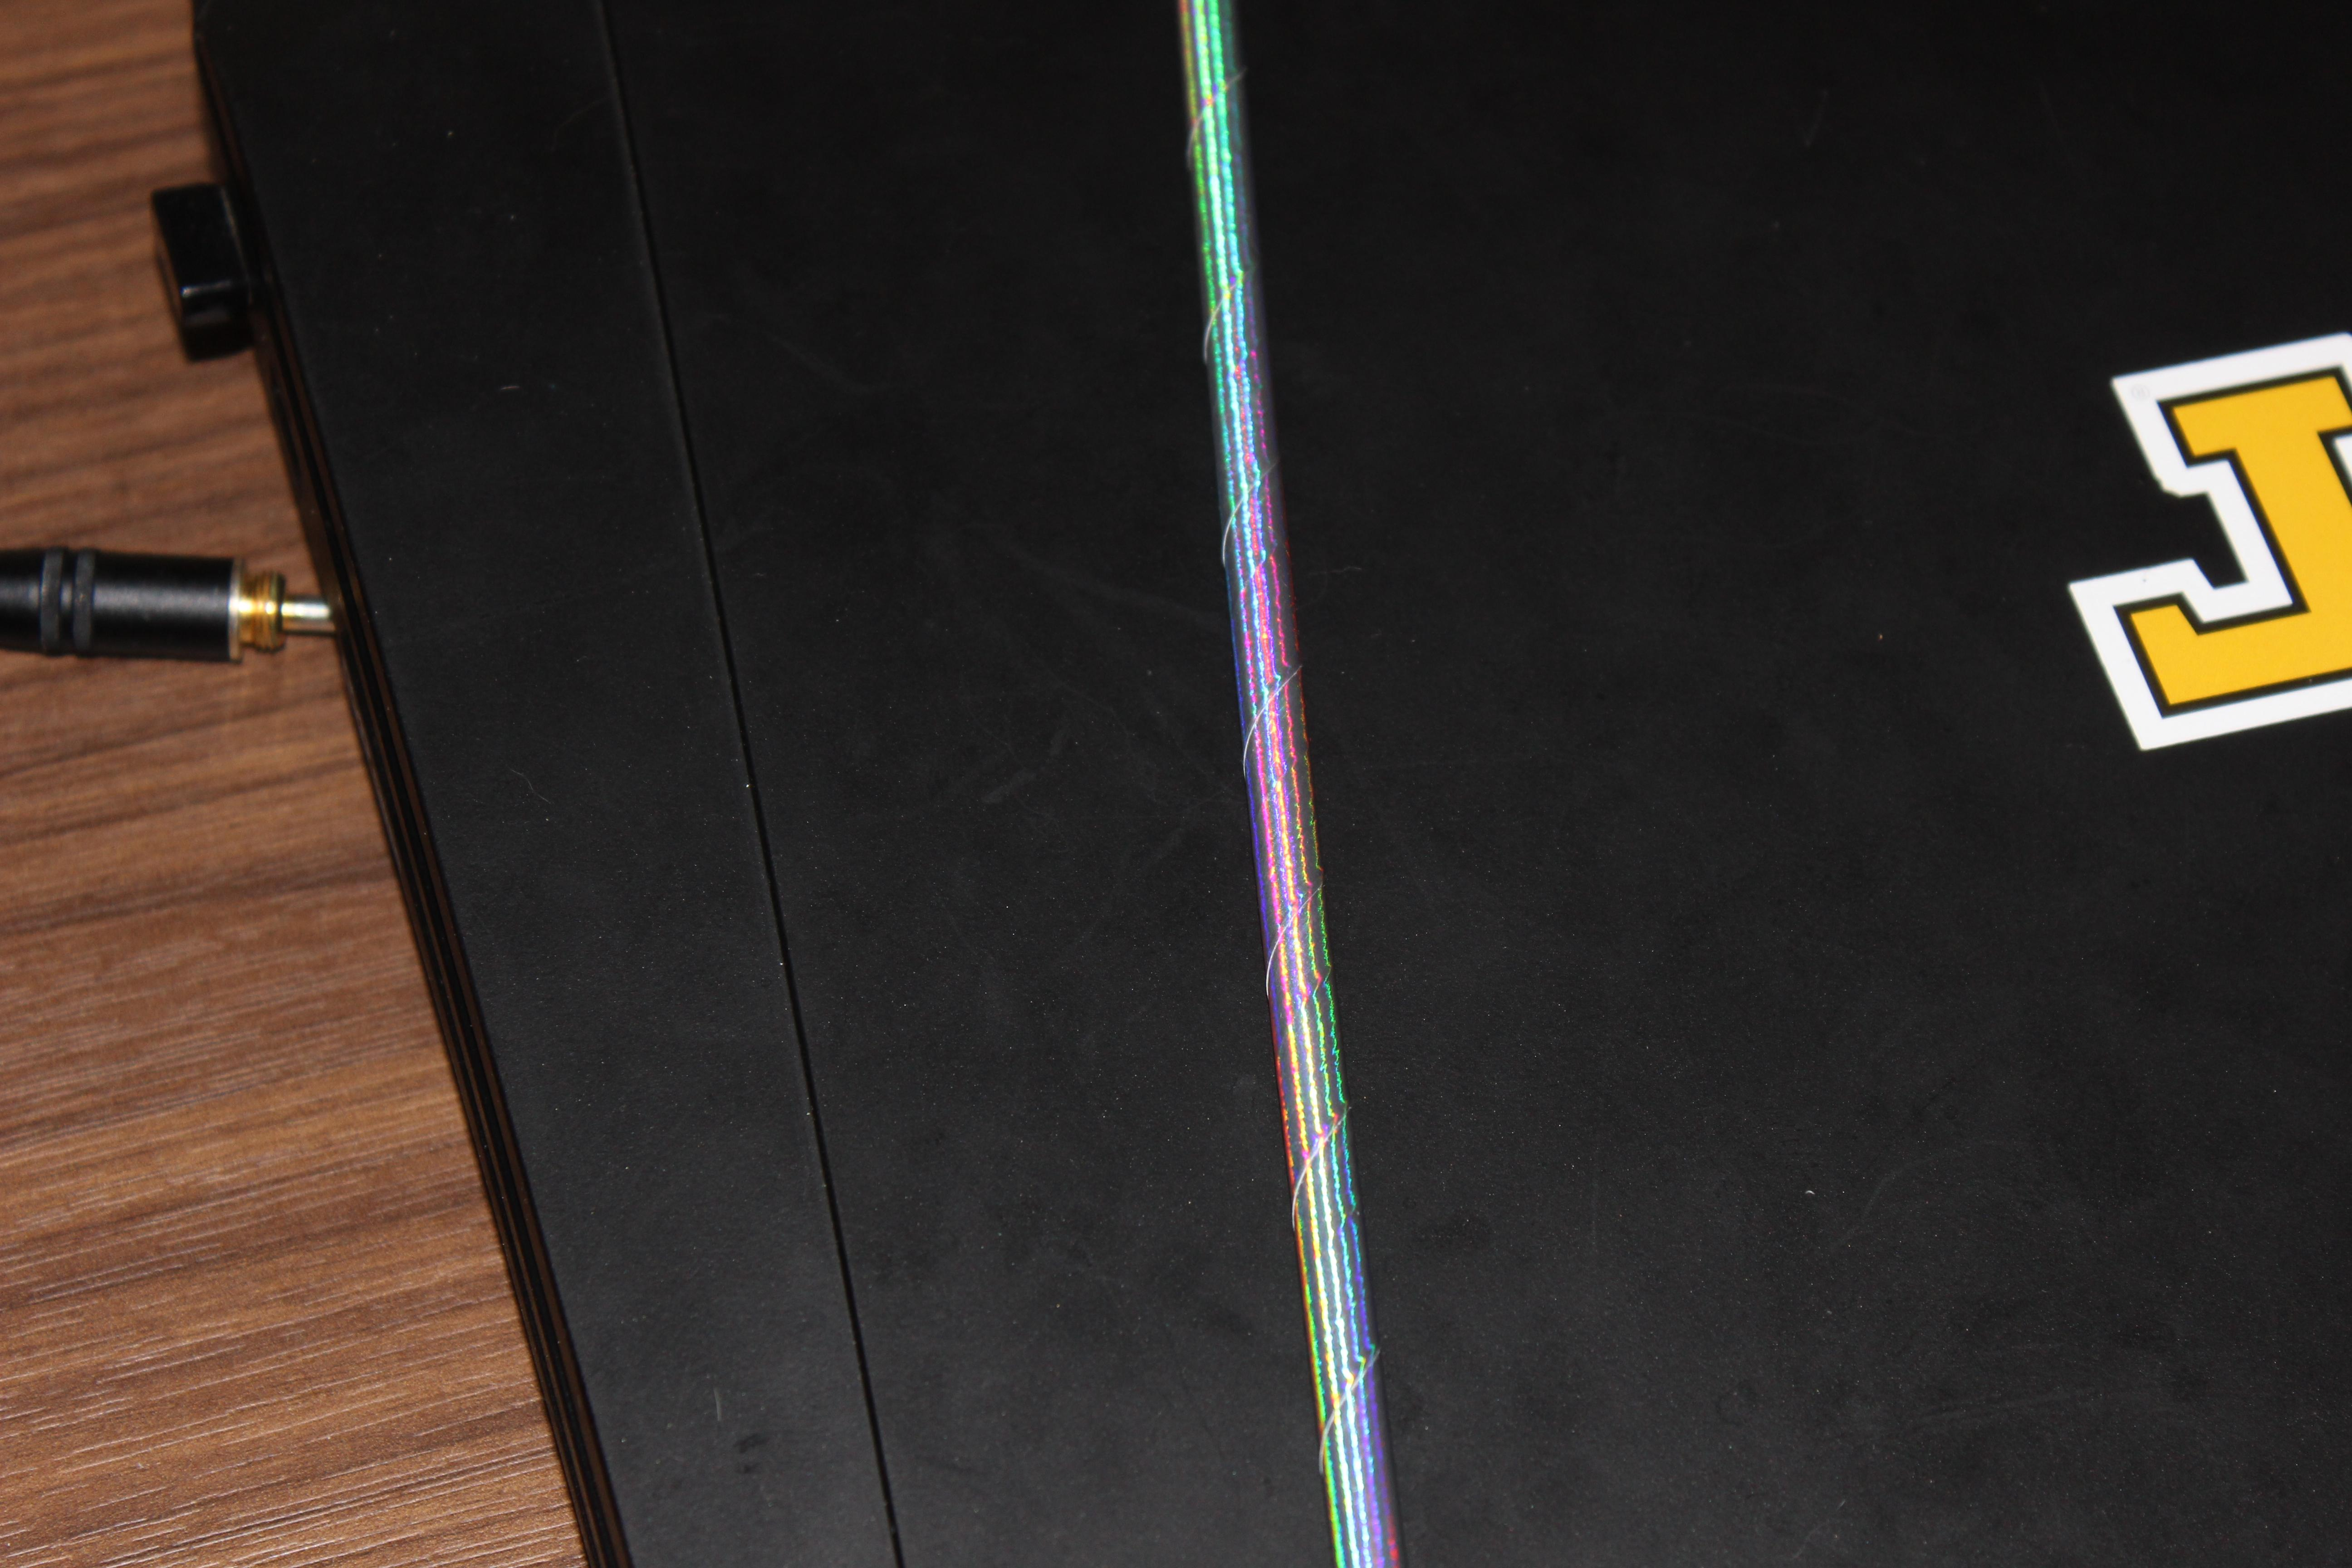silverStraw: (1089, 0, 1470, 1568)
